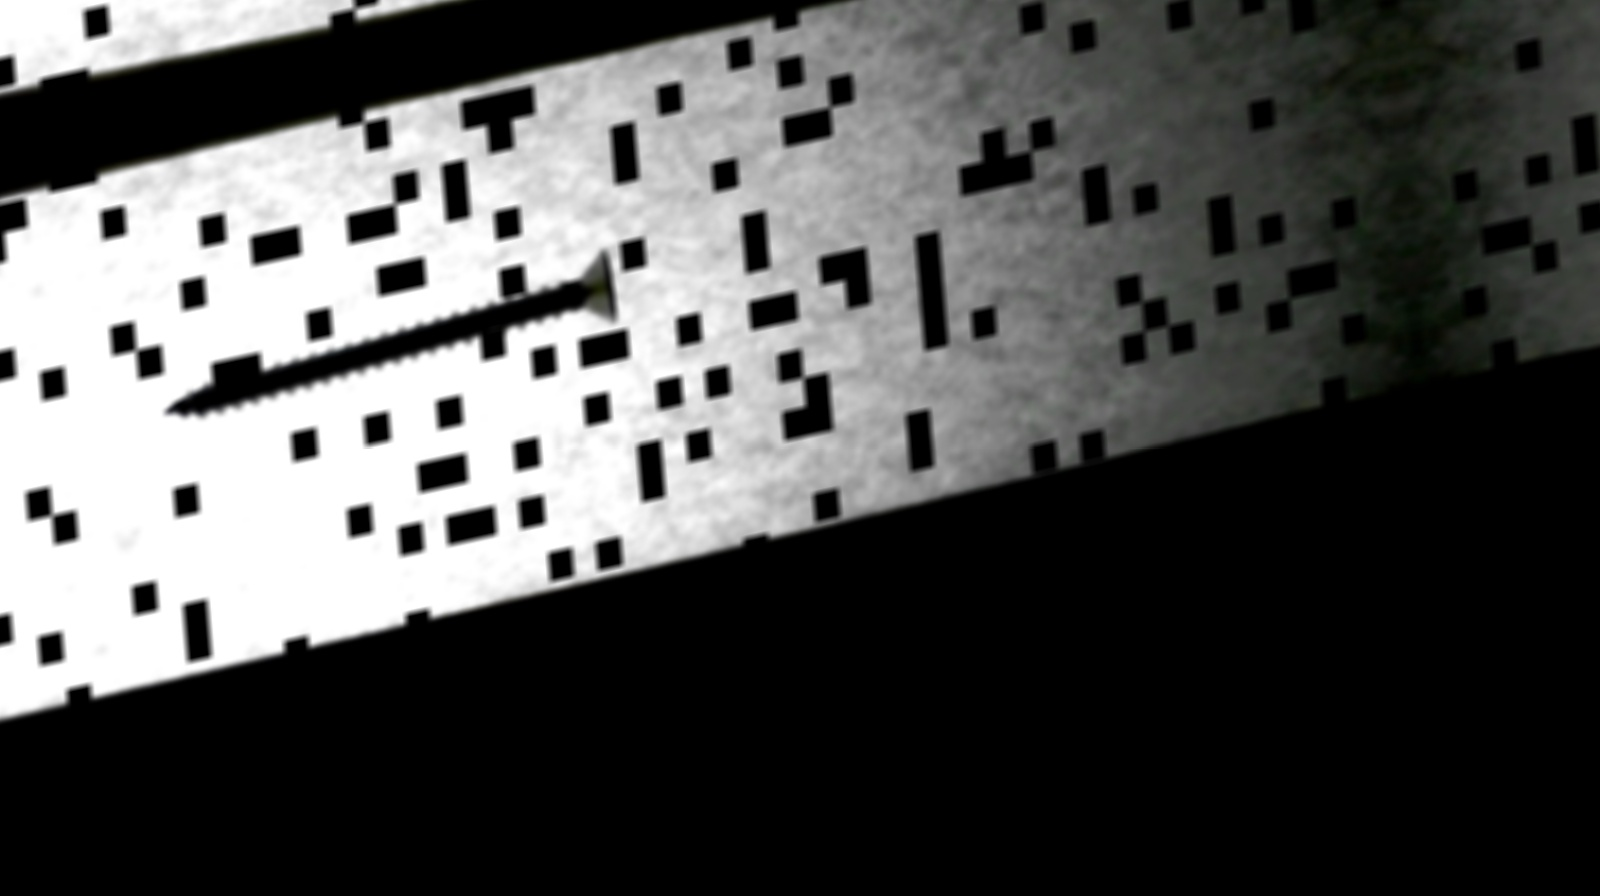S002: (132, 228, 656, 464)
